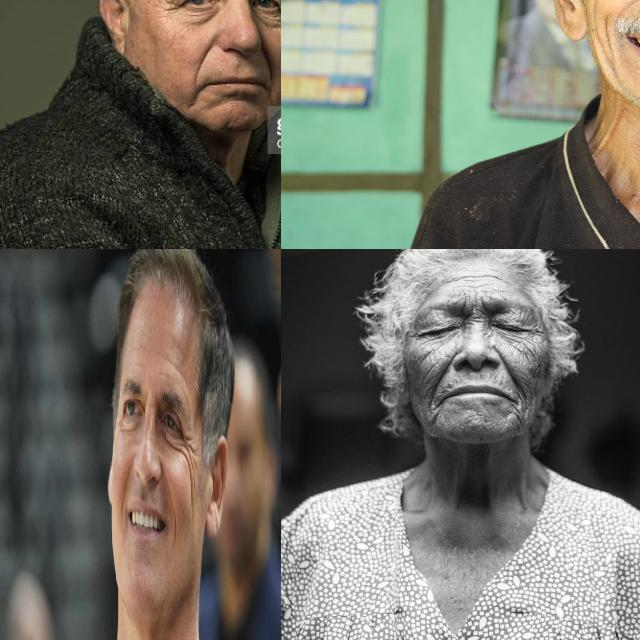crows_feet: (183, 432, 194, 472), (163, 0, 180, 13), (116, 417, 123, 435), (277, 4, 281, 24)
forehead: (450, 265, 498, 287), (164, 356, 186, 382)
frown_line: (461, 293, 487, 317)
gummy_smile: (491, 346, 517, 386), (259, 44, 279, 84), (192, 38, 212, 76), (432, 356, 452, 390), (120, 466, 130, 512), (171, 500, 178, 540)
masseter: (587, 0, 604, 41), (602, 16, 620, 54), (522, 339, 544, 367), (188, 482, 196, 522)
sad_smile: (508, 397, 524, 431), (425, 398, 441, 424), (188, 86, 202, 112)
